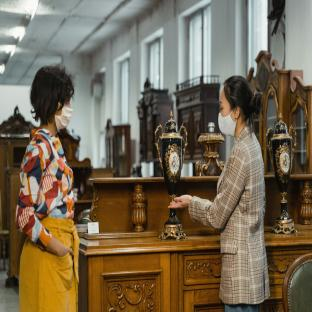Human: (169, 75, 270, 312), (16, 65, 79, 312)
